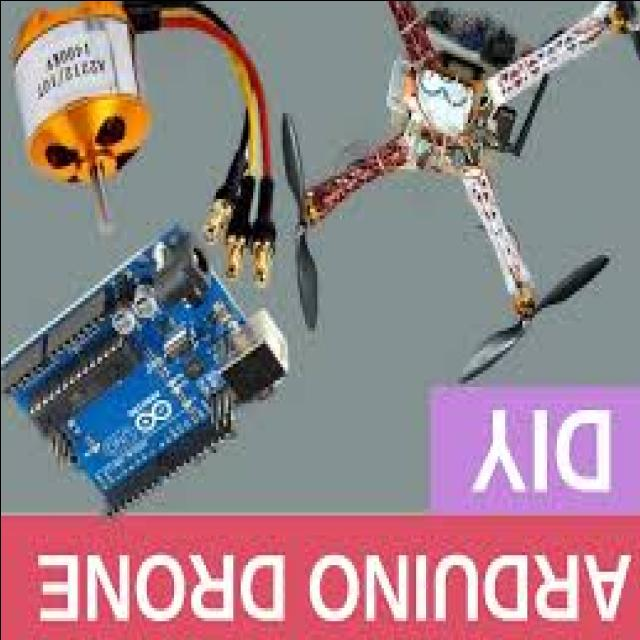drone: (274, 0, 640, 379)
